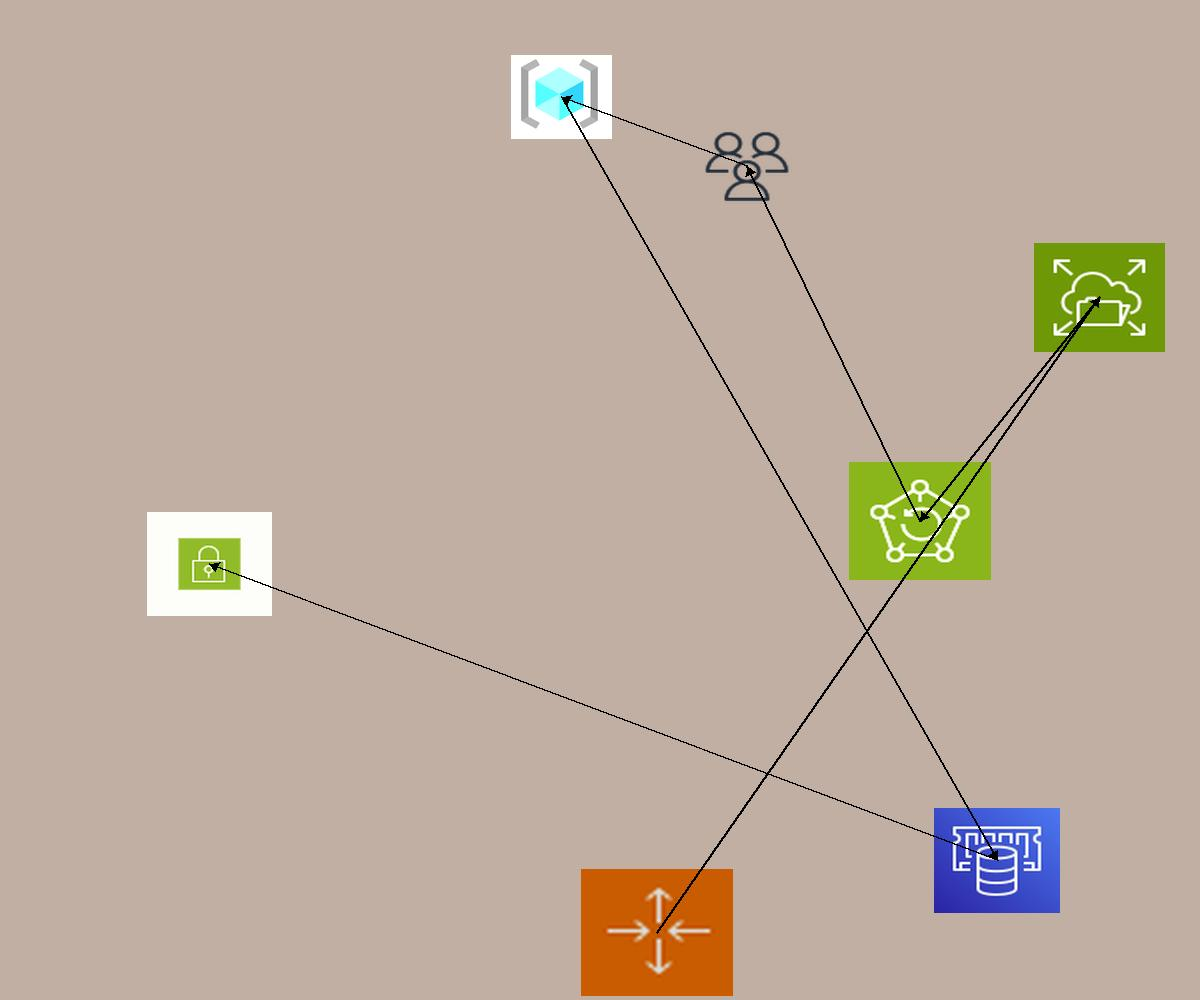AWS-Backup: (849, 462, 991, 580)
AWS-EFS: (1034, 243, 1165, 352)
AWS-ElastiCache: (934, 808, 1060, 913)
AWS-Public-subnet: (147, 512, 272, 616)
AWS-Res_Users: (702, 129, 792, 204)
AWS-Scaling-group: (581, 869, 733, 996)
Azure_resource_group: (511, 55, 612, 139)
